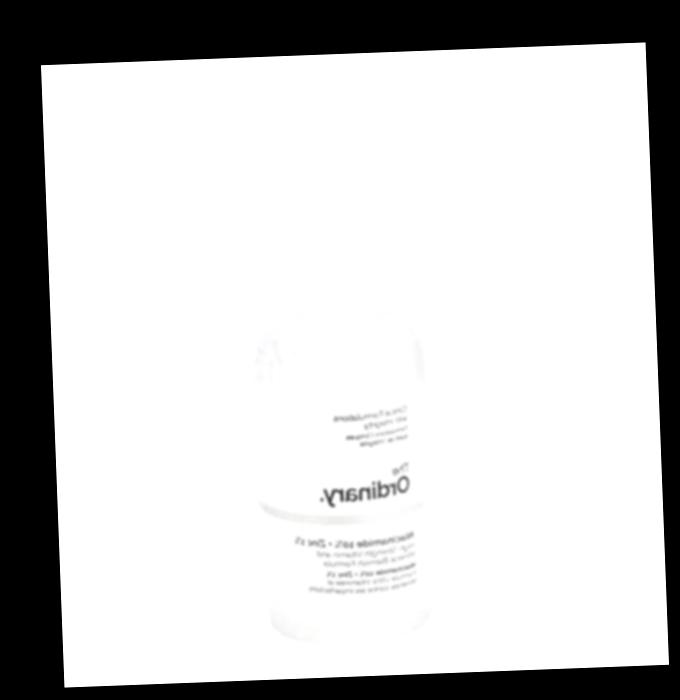cosmetic: (241, 101, 436, 645)
